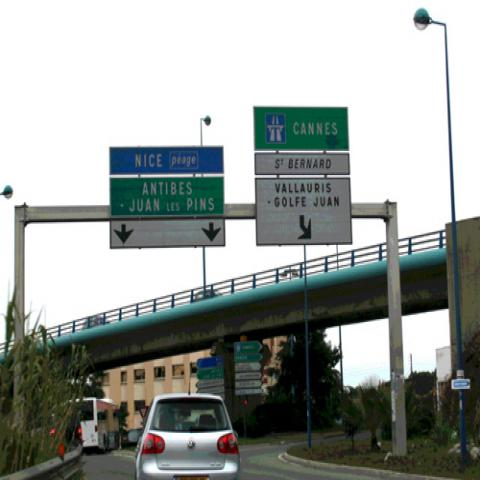bus: (76, 397, 120, 454)
car: (135, 375, 242, 480)
